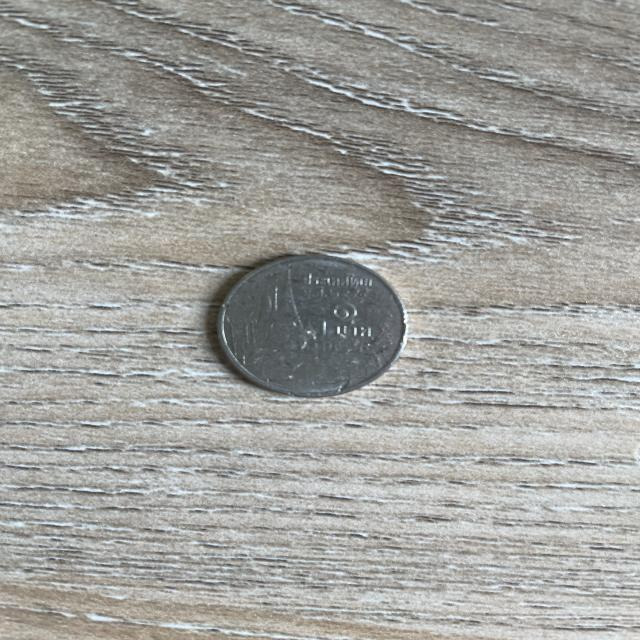1 Bath: (192, 244, 429, 409)
